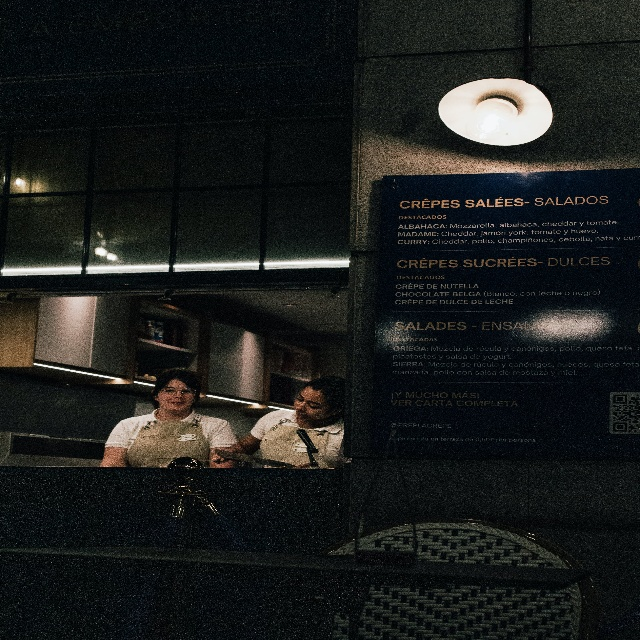Gafas: (161, 386, 197, 398)
